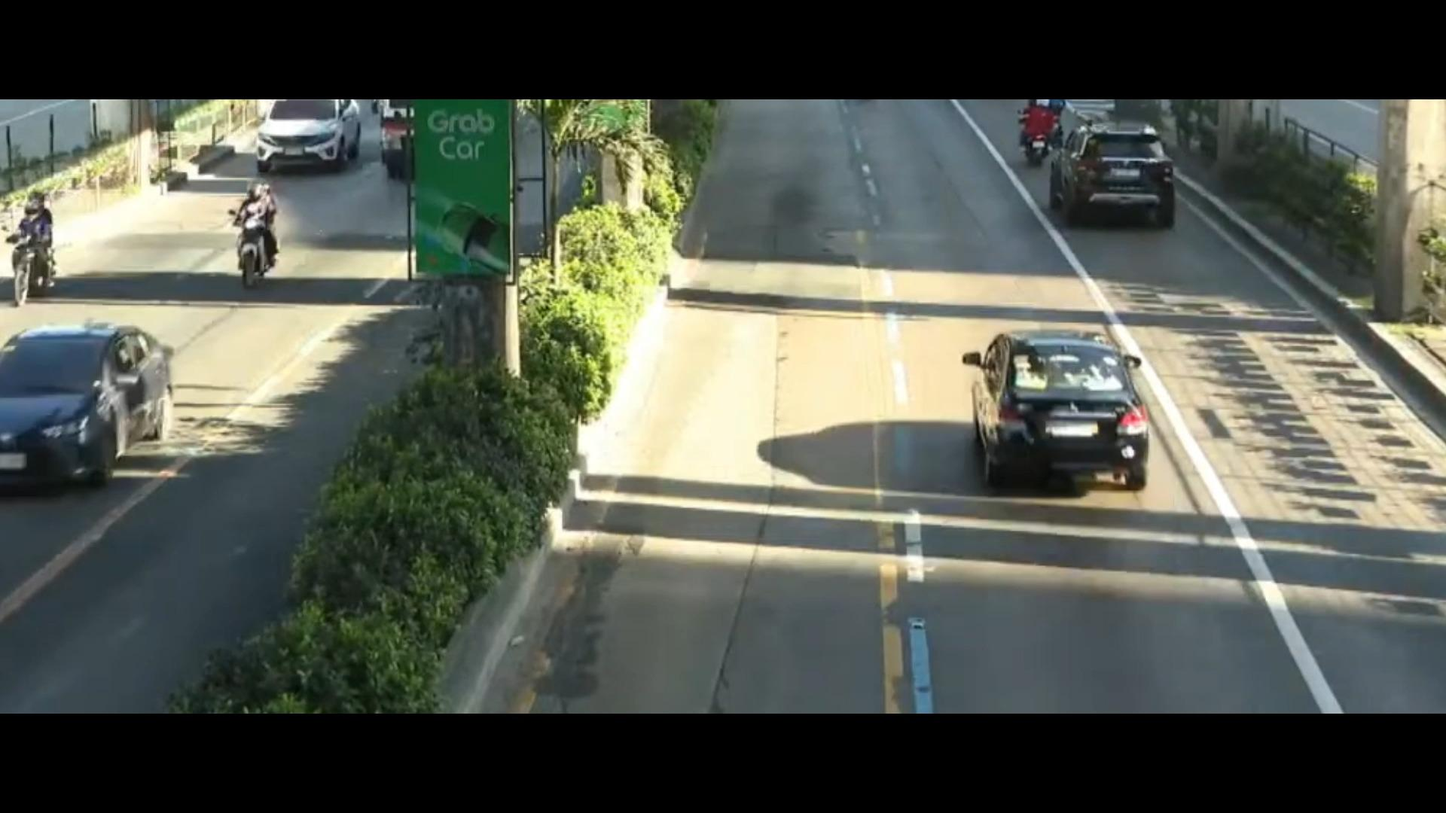Motorcycle: (210, 158, 298, 292), (0, 192, 95, 294), (1017, 98, 1078, 160)
SUV: (1043, 115, 1192, 243), (247, 98, 366, 172)
Sedan: (914, 320, 1162, 506), (0, 318, 202, 497)
Truck: (377, 104, 408, 175)
